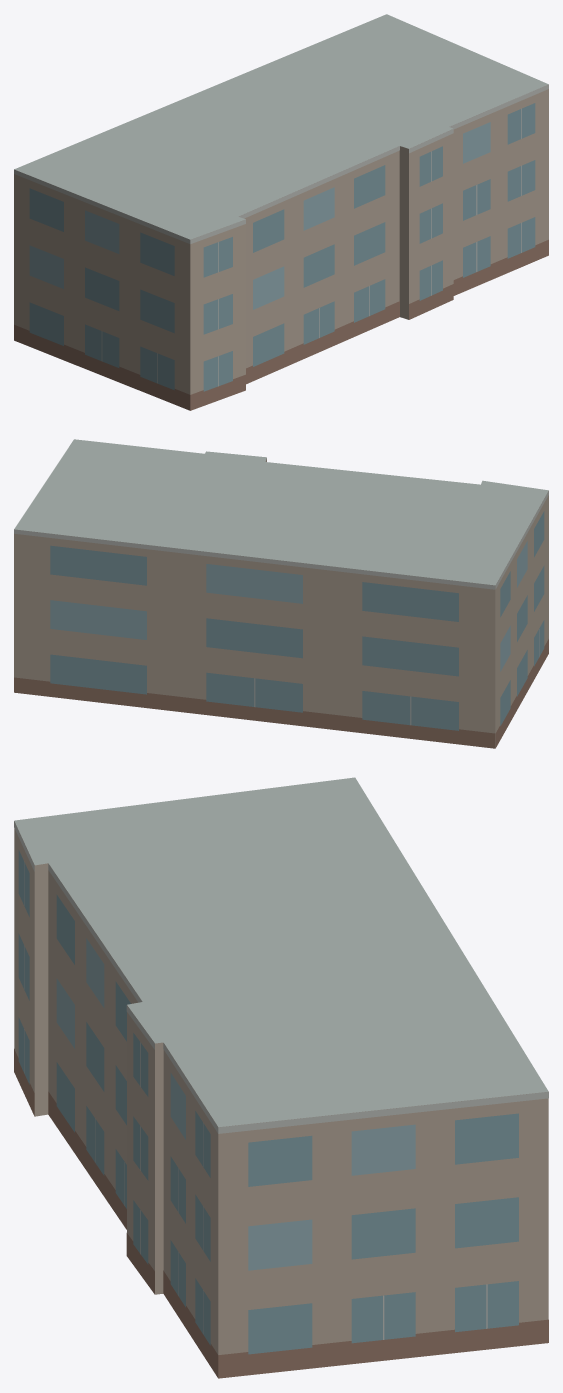
File: survey-upis-32649305.glb
3 renders of one model, top to bottom at view 1: azimuth 30°, elevation 25°; view 2: azimuth 150°, elevation 25°; view 3: azimuth 270°, elevation 25°, orthographic. The views are drawn at different scales.
Visible parts, largest first — view 1: survey-upis-32649305.tmp; view 2: survey-upis-32649305.tmp; view 3: survey-upis-32649305.tmp.
Boxes of the visible parts, x1=… form: survey-upis-32649305.tmp: x1=14, y1=14, x2=548, y2=410; survey-upis-32649305.tmp: x1=14, y1=439, x2=548, y2=748; survey-upis-32649305.tmp: x1=14, y1=777, x2=548, y2=1378.
Size of the model in its own units: 27.33 by 9.15 by 17.66.
